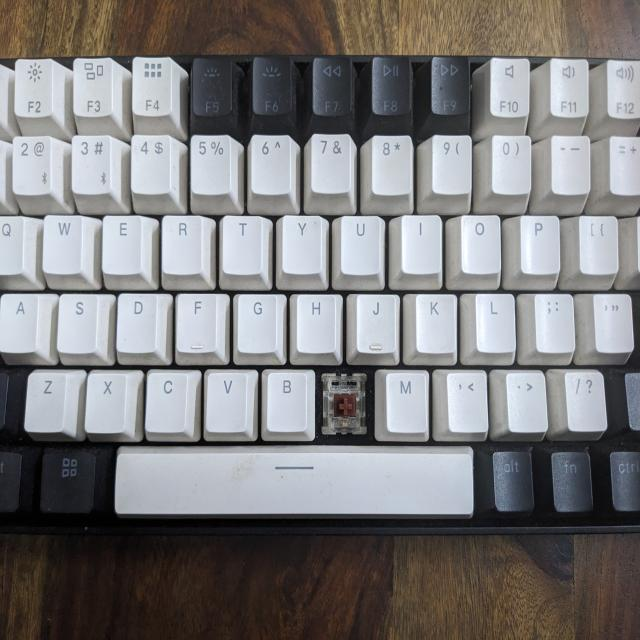C: (322, 373, 364, 435)
